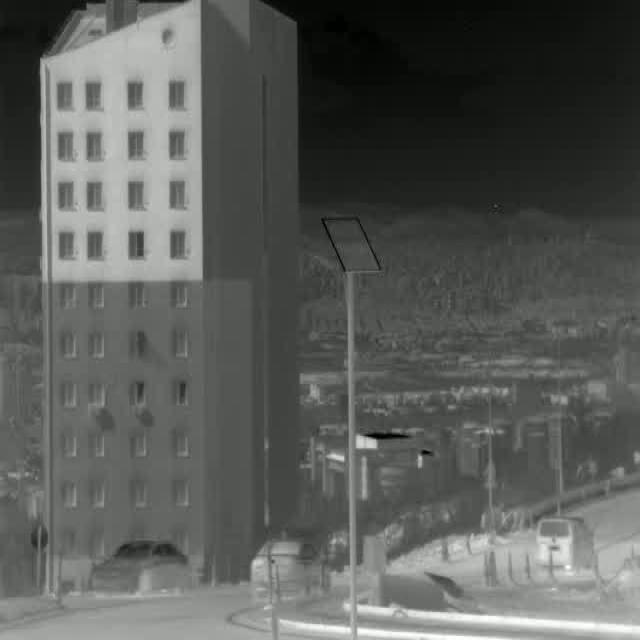Car: (88, 540, 194, 595), (246, 538, 331, 599), (535, 513, 597, 571)
